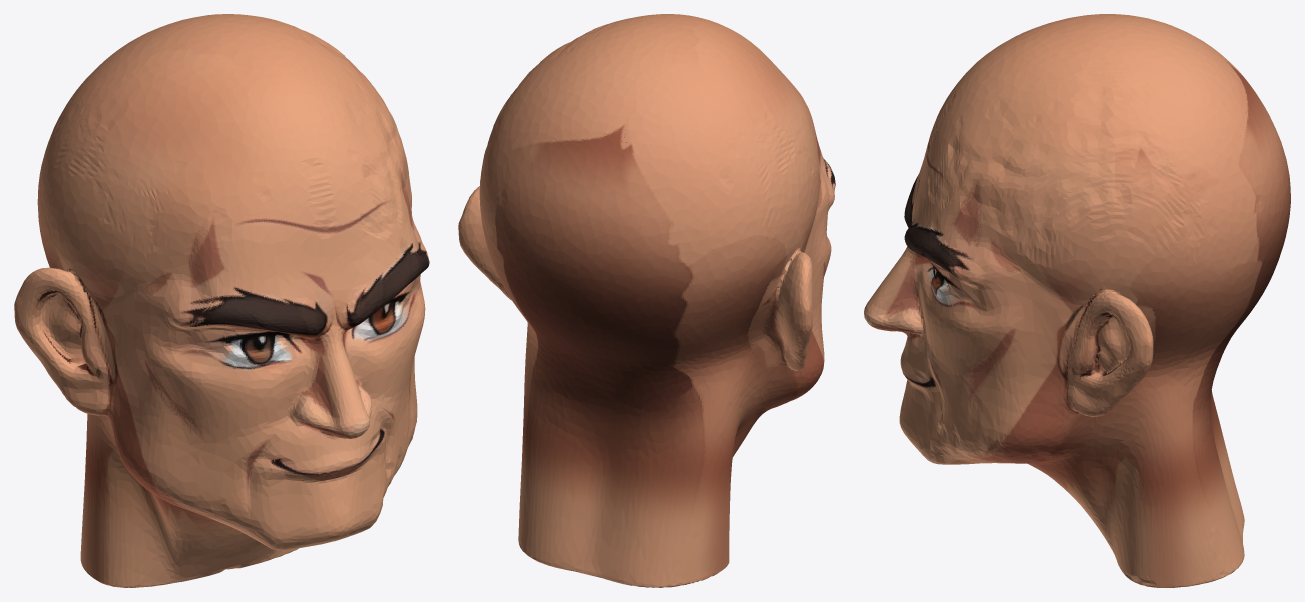
Rendered from side_thundermonk_repaired_atlas.glb.
3 views of the same model, side by side, from view 1: azimuth 30°, elevation 25°; view 2: azimuth 150°, elevation 25°; view 3: azimuth 270°, elevation 25° (orthographic). The views are drawn at different scales.
Visible parts, largest first — view 1: temp_mesh.ply; view 2: temp_mesh.ply; view 3: temp_mesh.ply.
Part boxes in pixels (left/top/right/bottom): temp_mesh.ply: left=14, top=14, right=429, bottom=587; temp_mesh.ply: left=458, top=14, right=835, bottom=587; temp_mesh.ply: left=864, top=14, right=1290, bottom=587.
Bounding box in the file's own units: 0.8938 × 1.21 × 0.9126.
1 material, 1 textured.
